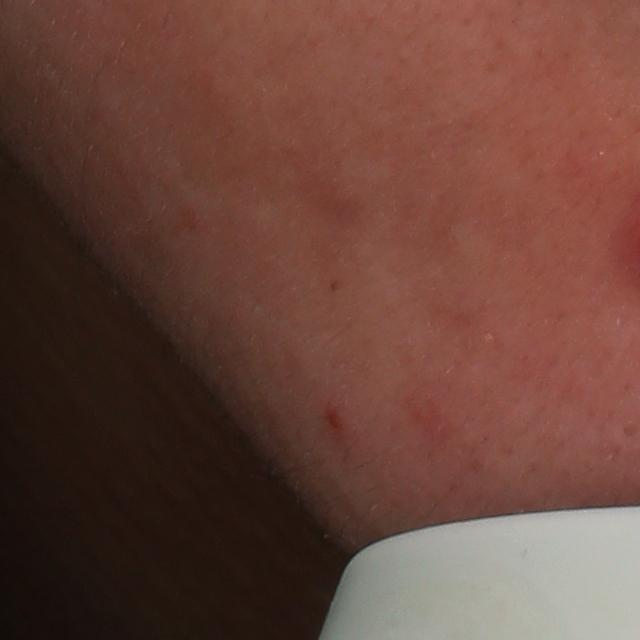papule: (322, 397, 348, 441)
